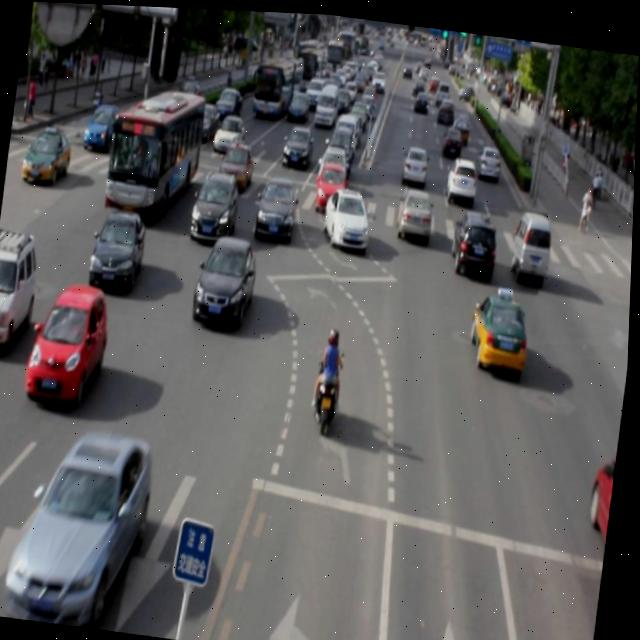car: (12, 418, 157, 625), (25, 275, 114, 405), (192, 228, 260, 328), (467, 281, 533, 371), (90, 206, 148, 290), (586, 432, 621, 563), (189, 164, 242, 243), (450, 200, 502, 273), (319, 184, 375, 251), (255, 169, 303, 237), (395, 180, 437, 237)
truck: (510, 202, 554, 276)
van: (105, 82, 206, 221)
